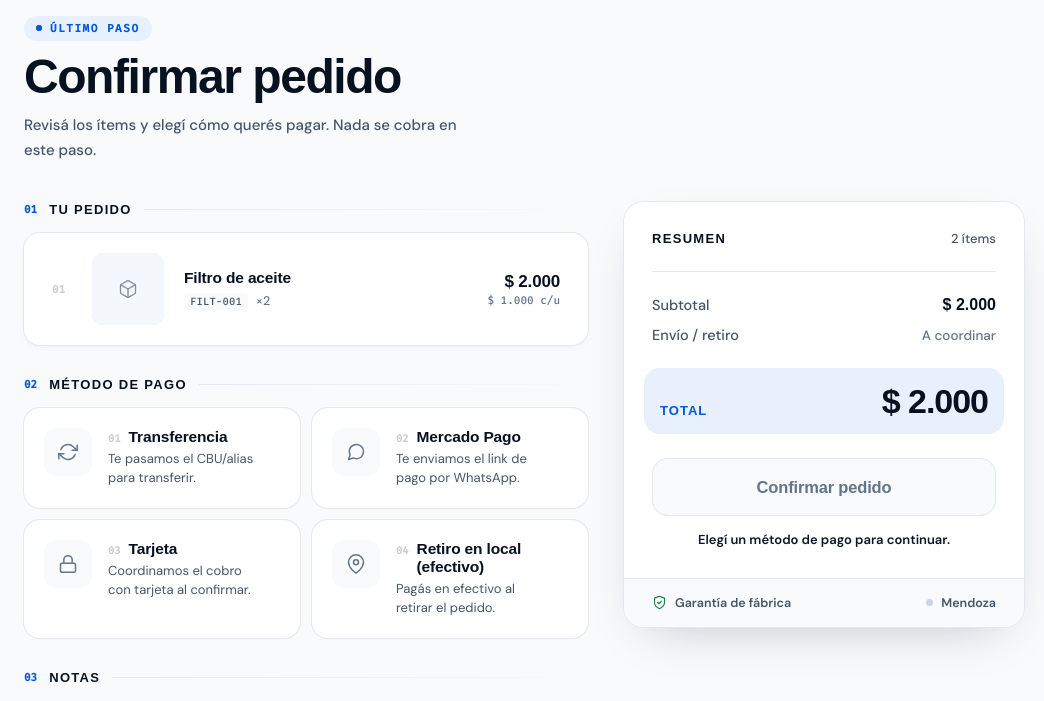
CheckoutPage — validación › se habilita al elegir un método de pago
This screenshot has width=1044, height=701.
Click the button "01 Transferencia Te pasamos el CBU/alias para transferir.": (162, 458) [24,408,300,508]
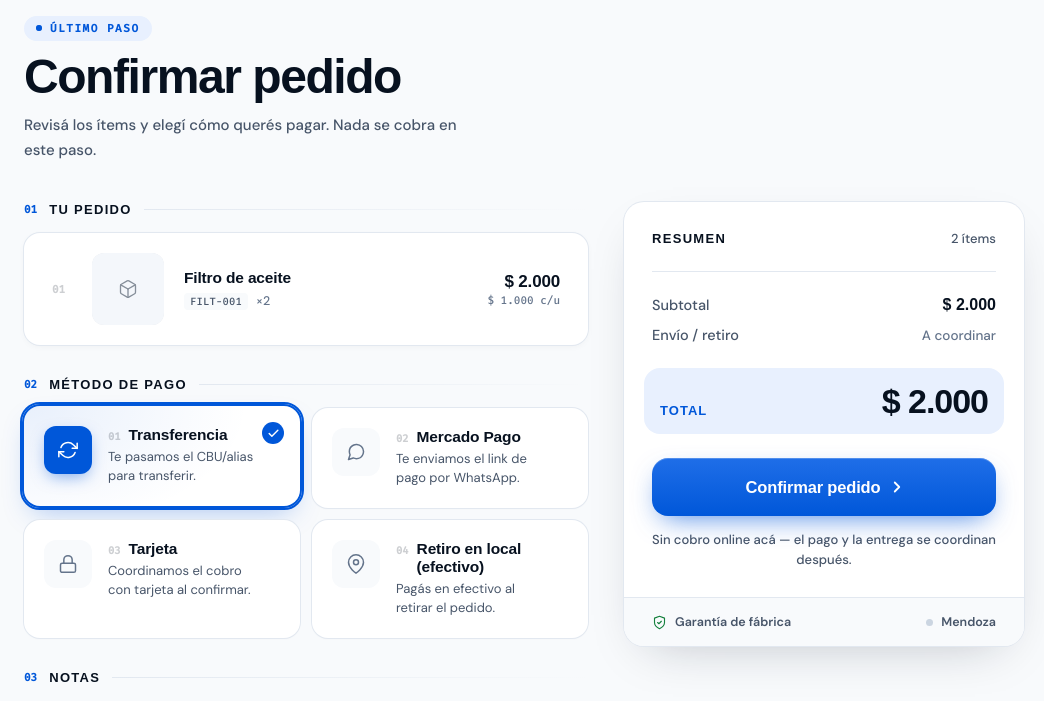
Expected: the button "Confirmar pedido" is enabled, [652,458,996,516]
